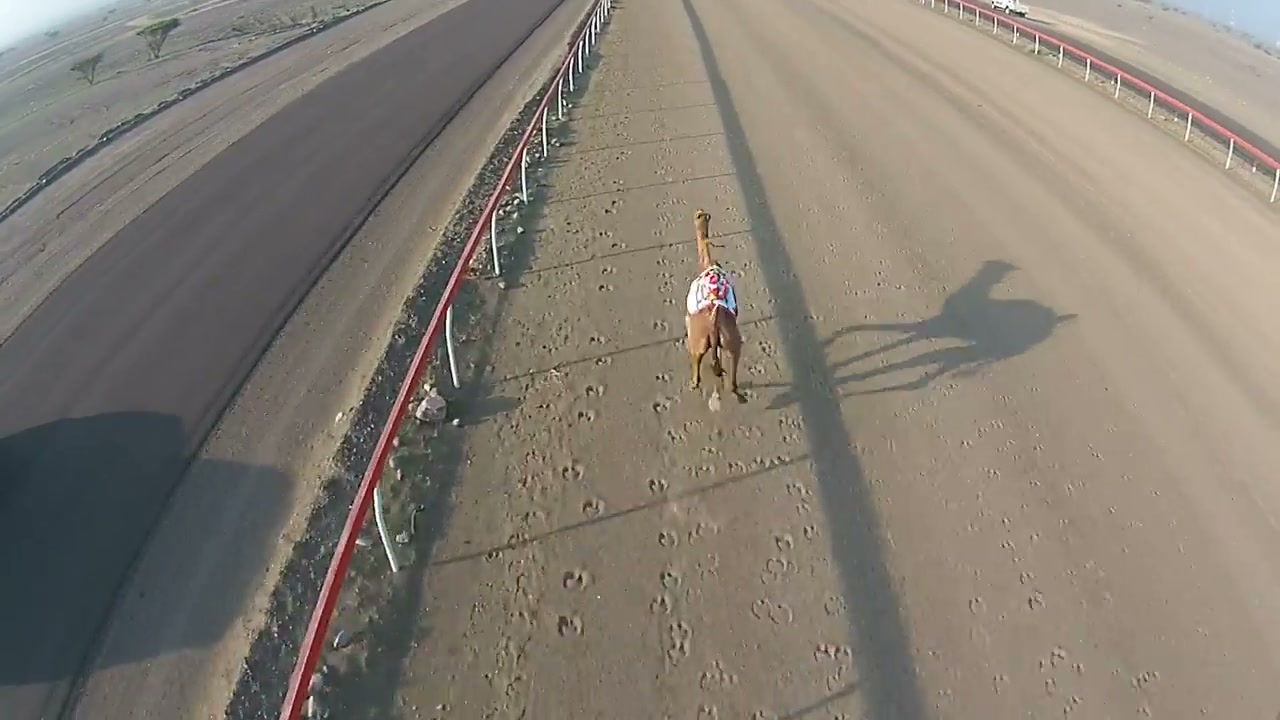animal_foot_print: (535, 133, 680, 649), (642, 113, 706, 675)
